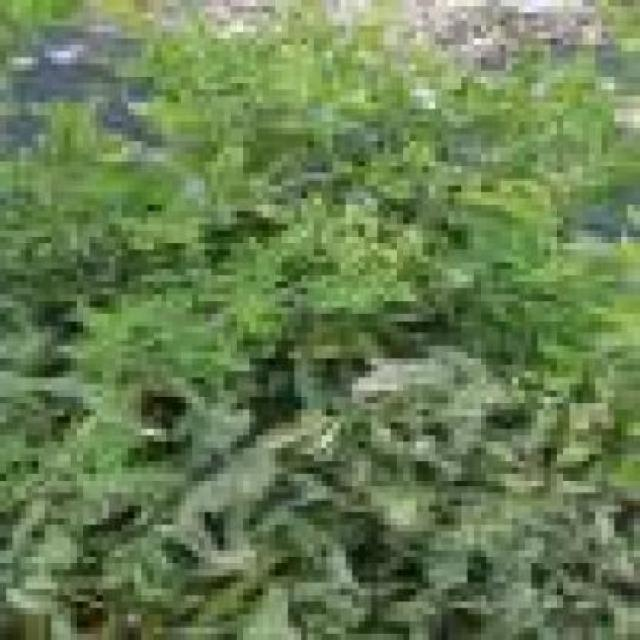Healthy Leaf: (175, 333, 252, 366), (526, 250, 590, 289), (129, 289, 206, 321), (520, 366, 597, 392), (507, 104, 558, 143), (469, 219, 513, 258), (501, 52, 564, 78), (226, 295, 289, 321), (206, 353, 270, 378), (167, 161, 212, 193), (309, 270, 366, 295), (309, 295, 380, 315), (206, 149, 250, 181), (91, 309, 117, 360), (532, 341, 584, 366), (199, 39, 238, 72), (339, 327, 398, 347), (200, 97, 244, 123), (430, 257, 487, 277), (366, 264, 410, 289), (302, 193, 335, 226), (384, 97, 436, 117), (378, 289, 430, 309), (514, 303, 571, 321), (584, 161, 616, 193), (175, 84, 213, 110), (455, 193, 507, 212), (564, 116, 603, 141), (379, 181, 418, 206), (143, 33, 167, 72), (303, 340, 347, 360), (226, 174, 270, 194), (327, 52, 360, 78), (258, 251, 290, 277), (149, 226, 193, 244), (232, 232, 256, 264), (200, 129, 251, 143), (283, 226, 321, 244), (570, 52, 603, 72), (341, 206, 373, 226), (258, 212, 302, 226), (404, 143, 436, 161)
